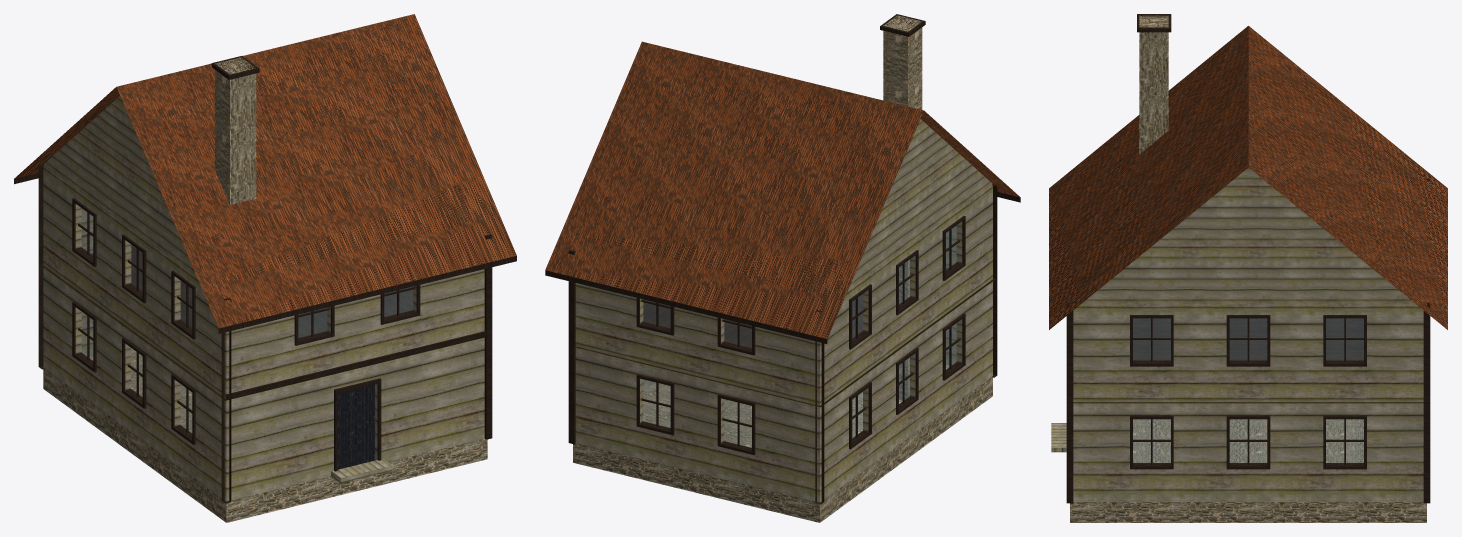
Rendered from eu_house_01.glb.
3 views of the same model, side by side, from view 1: azimuth 30°, elevation 25°; view 2: azimuth 150°, elevation 25°; view 3: azimuth 270°, elevation 25° (orthographic). The views are drawn at different scales.
Parts seen in each view (by area): view 1: eu_house_01; view 2: eu_house_01; view 3: eu_house_01.
Part boxes in pixels (x1,y1,x2,y2): eu_house_01: (14, 14, 516, 522); eu_house_01: (545, 14, 1020, 522); eu_house_01: (1049, 14, 1447, 522).
Size of the model in its own units: 8 by 10.58 by 9.5.
Materials: 6 (5 with a texture image).
